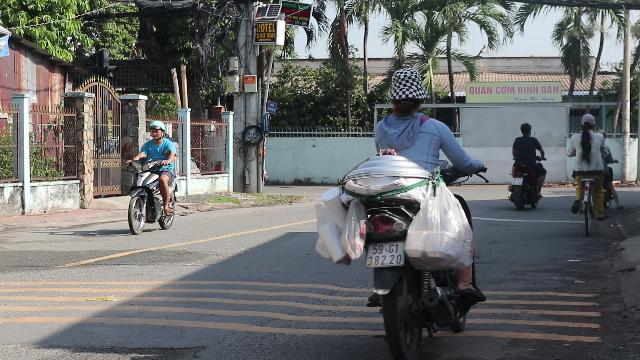helmet: (148, 120, 166, 140)
licenseplate: (366, 243, 404, 266)
motorcyclist: (310, 64, 490, 356), (124, 118, 180, 233)
nohelmet: (387, 65, 427, 114)
